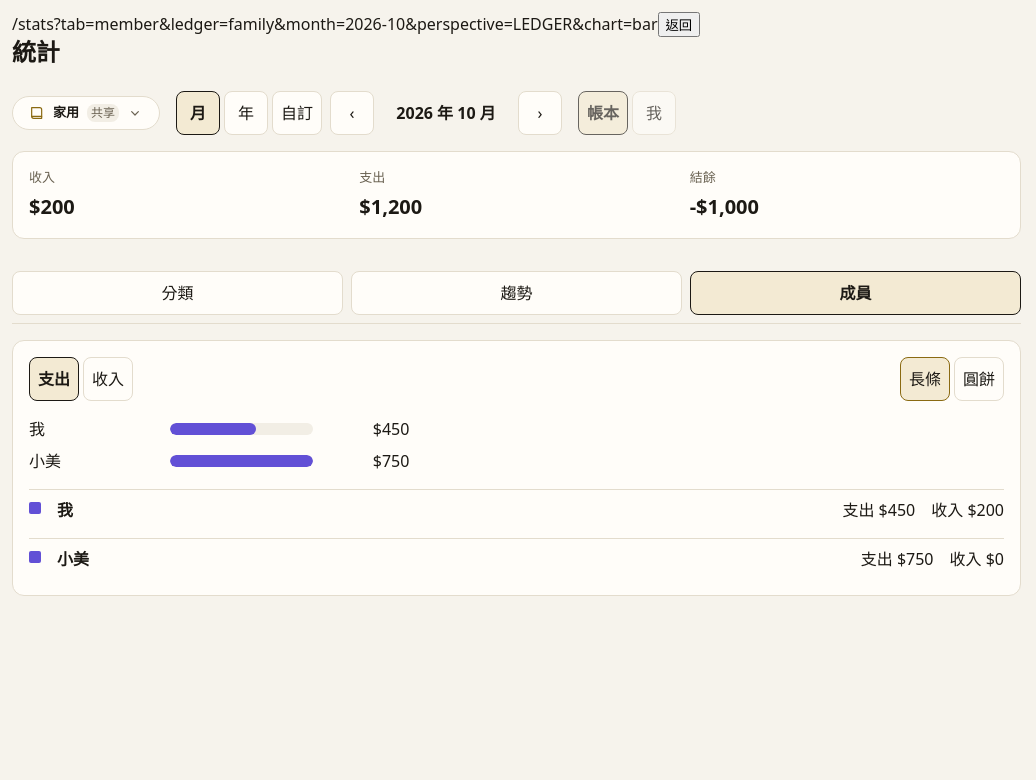
Test: StatsPage › locks the member perspective, normalizes member URLs, and falls back to categories on a personal ledger
expect the 2nd text "我" is shown: met, box x1=57 y1=498 x2=73 y2=520
expect the list item with aria-label "我，支出 $450，收入 $200" is shown: met, box x1=29 y1=488 x2=1004 y2=530
Click the button "家用 共享".
click(86, 113)  # box x1=12 y1=96 x2=160 y2=130
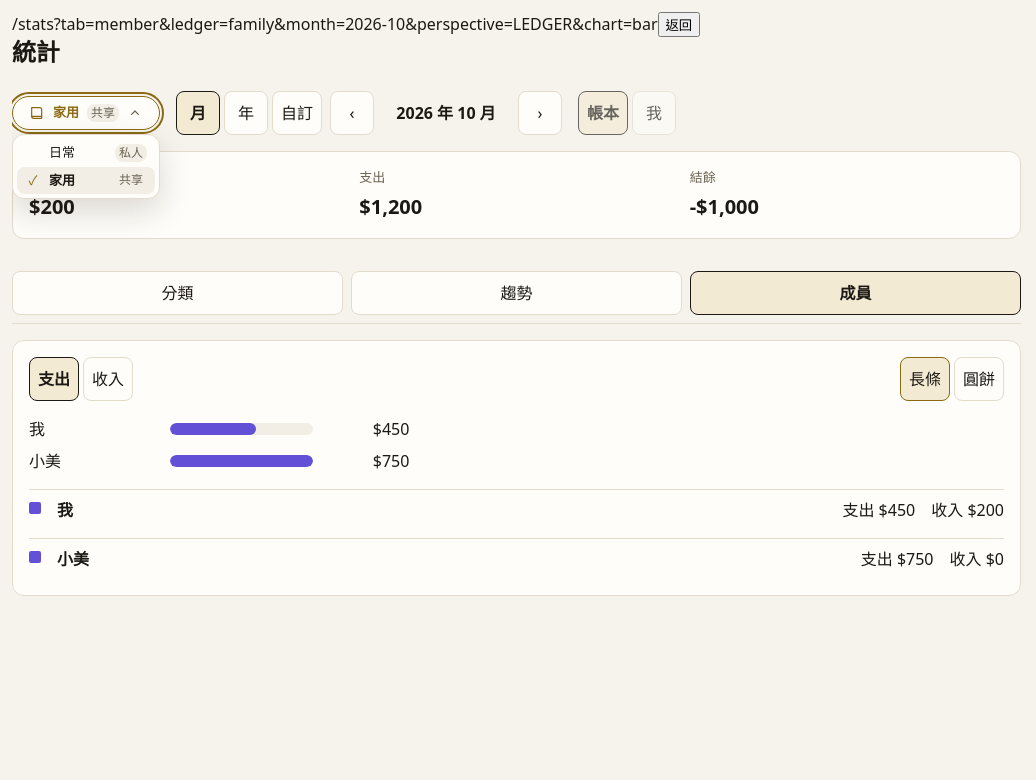
Click the option "日常 私人".
click(131, 153)  # box x1=49 y1=143 x2=147 y2=162
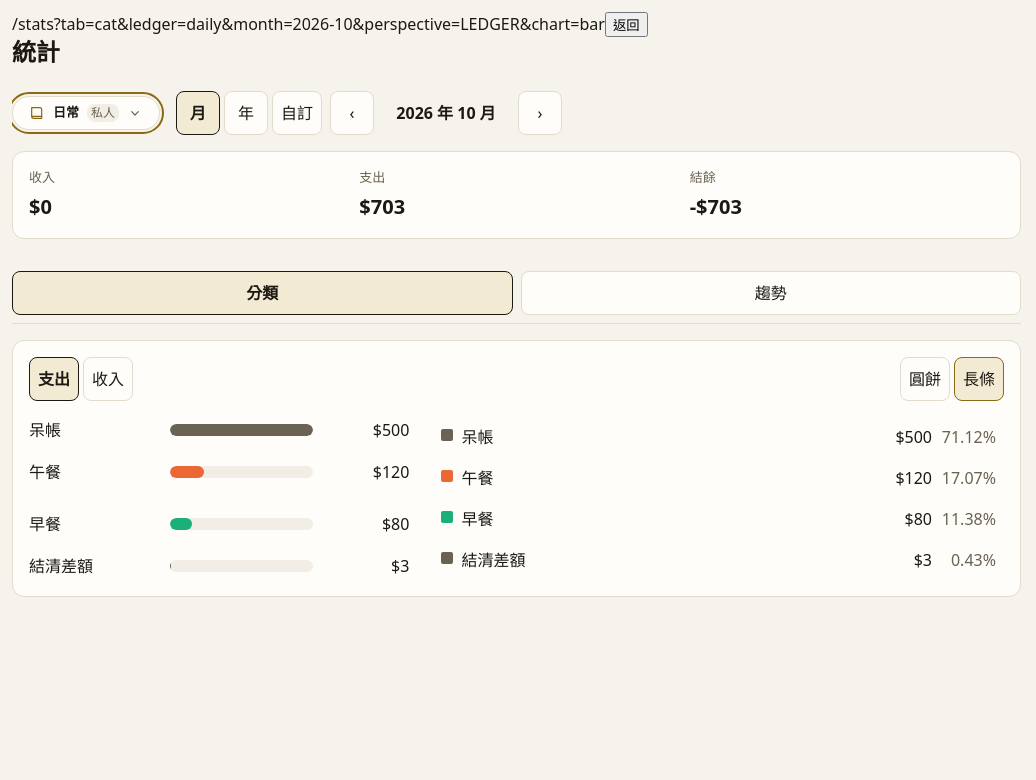
expect the button "成員" is gone: met
